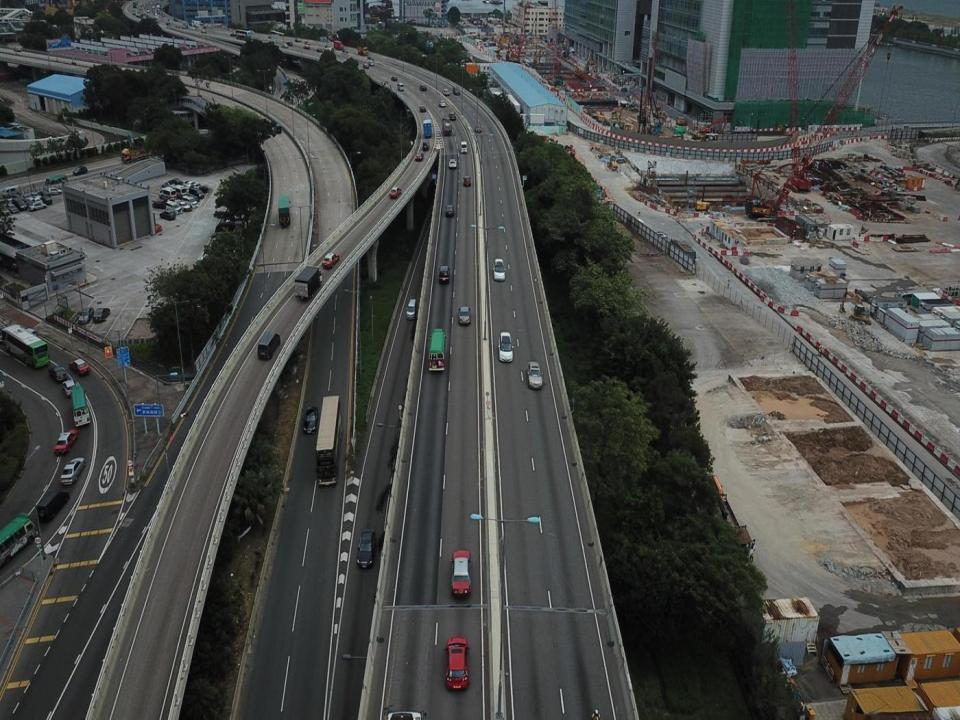bus: (315, 395, 343, 486), (1, 324, 50, 369), (0, 511, 35, 563), (68, 384, 90, 426), (428, 328, 447, 372)
car: (444, 635, 471, 694), (450, 548, 474, 598), (36, 489, 70, 521), (355, 528, 376, 568), (59, 457, 86, 485), (53, 428, 78, 456), (526, 359, 545, 390), (498, 330, 515, 363), (302, 403, 318, 434), (68, 357, 90, 376), (492, 256, 506, 282), (321, 251, 341, 269), (48, 364, 66, 383), (78, 306, 94, 325), (93, 307, 111, 323), (62, 378, 77, 397), (456, 304, 470, 324), (10, 196, 27, 212), (437, 263, 450, 283), (159, 209, 176, 222), (4, 202, 19, 216), (28, 202, 47, 211), (71, 166, 88, 176), (161, 180, 178, 190), (389, 185, 401, 198), (444, 204, 456, 217), (458, 139, 468, 154), (46, 186, 62, 195), (40, 194, 52, 206), (178, 201, 191, 212), (39, 196, 53, 206), (34, 188, 47, 198), (462, 174, 472, 187), (21, 193, 32, 204), (186, 180, 198, 190), (448, 156, 456, 170), (414, 150, 424, 161), (190, 184, 203, 192), (30, 191, 40, 201), (32, 197, 43, 206), (422, 139, 430, 150), (448, 112, 456, 122), (438, 99, 446, 108), (474, 124, 481, 134), (418, 105, 426, 113), (396, 82, 404, 90), (420, 82, 426, 92), (442, 88, 449, 96), (362, 62, 370, 69), (284, 40, 292, 47), (366, 54, 374, 61), (391, 74, 397, 83), (342, 48, 348, 56), (281, 42, 288, 48), (303, 44, 310, 50), (368, 60, 374, 67), (294, 37, 301, 43), (316, 47, 322, 53), (268, 36, 274, 41)
truck: (294, 264, 324, 299), (119, 146, 150, 166), (278, 195, 291, 229), (422, 119, 433, 138), (441, 116, 451, 135), (356, 44, 369, 56), (332, 40, 344, 50)
van: (257, 331, 281, 359), (44, 175, 68, 190), (158, 186, 177, 200), (1, 185, 20, 199), (405, 298, 417, 320), (166, 200, 182, 215), (171, 184, 187, 199), (182, 194, 198, 208), (188, 186, 204, 200), (452, 85, 461, 96)
